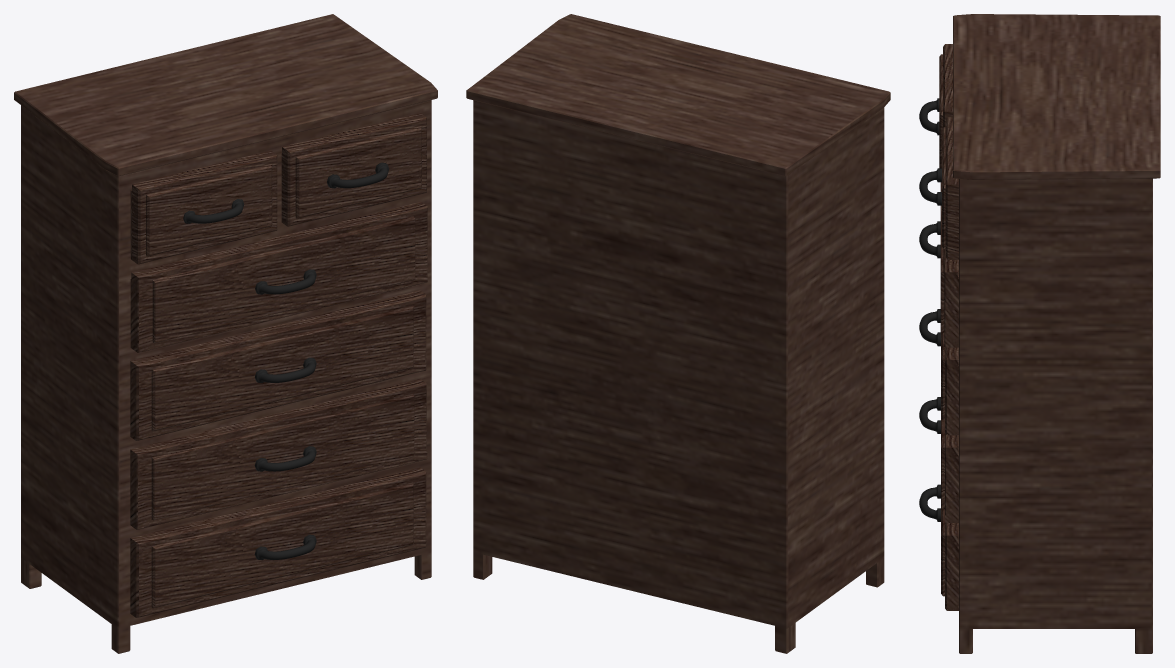
The model's file is dresser.glb.
3 views of the same model, side by side, from view 1: azimuth 30°, elevation 25°; view 2: azimuth 150°, elevation 25°; view 3: azimuth 270°, elevation 25° (orthographic).
Parts seen in each view (by area): view 1: DresserFrame, Drawer03, Drawer05, Drawer04, Drawer06, Drawer01, Drawer02; view 2: DresserFrame; view 3: DresserFrame, Drawer02, Drawer03, Drawer04, Drawer05, Drawer06, Drawer01.
Part boxes in pixels (x1,y1,x2,y2): DresserFrame: [14, 14, 437, 653]; Drawer03: [130, 202, 427, 352]; Drawer05: [130, 378, 427, 529]; Drawer04: [130, 290, 426, 440]; Drawer06: [130, 467, 426, 617]; Drawer01: [130, 150, 277, 264]; Drawer02: [281, 113, 426, 226]; DresserFrame: [466, 14, 890, 653]; DresserFrame: [953, 14, 1160, 653]; Drawer02: [919, 117, 958, 259]; Drawer03: [919, 182, 958, 347]; Drawer04: [919, 309, 958, 435]; Drawer05: [919, 397, 958, 522]; Drawer06: [919, 484, 958, 610]; Drawer01: [919, 44, 952, 168].
Bounding box in the file's own units: 0.6853 × 0.9833 × 0.4428.
Materials: 3 (2 with a texture image).
